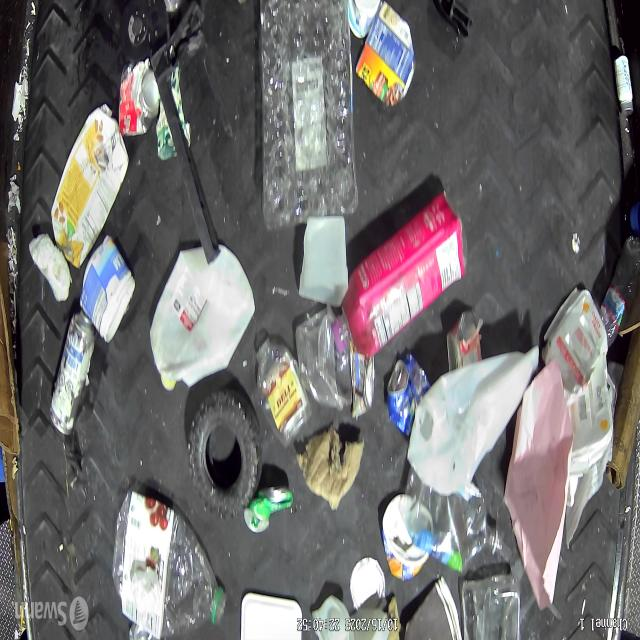can: (356, 4, 416, 109), (47, 312, 93, 436), (386, 350, 428, 438), (117, 60, 158, 139), (245, 483, 292, 533), (446, 309, 482, 372)
milk_jug: (406, 346, 541, 493), (148, 245, 255, 396)
non_white_jug: (50, 106, 130, 268)
plastic_bottle: (112, 493, 228, 636), (398, 470, 512, 572), (253, 343, 307, 446), (600, 235, 640, 343)
